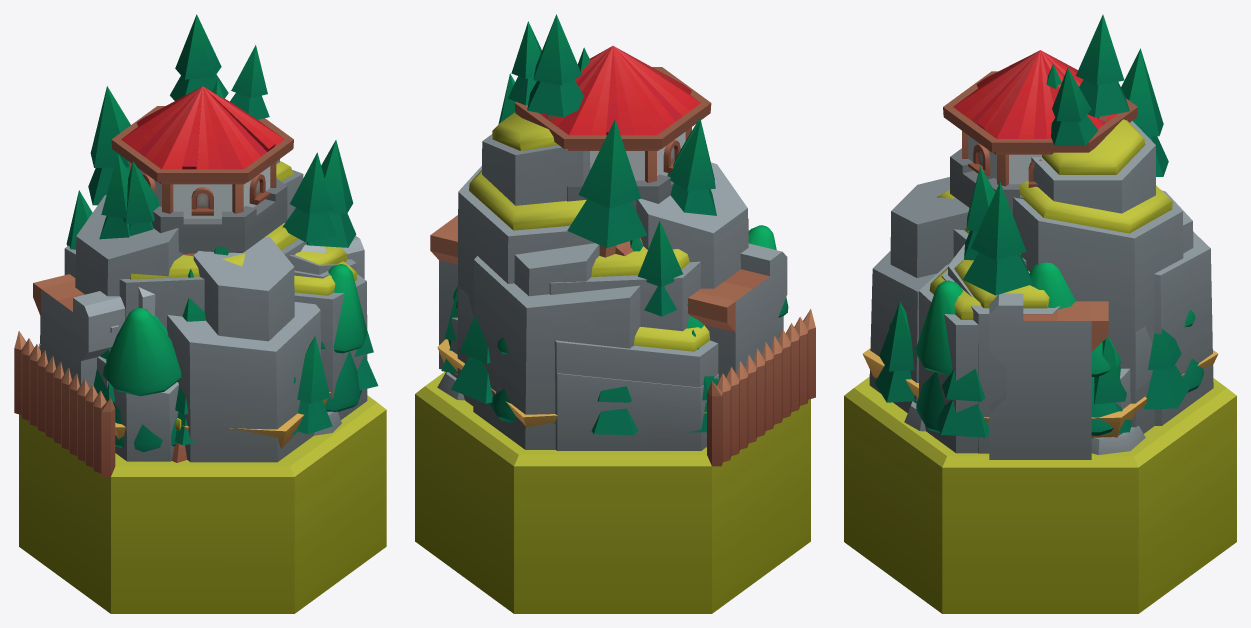
The model's file is village.glb.
3 views of the same model, side by side, from view 1: azimuth 30°, elevation 25°; view 2: azimuth 150°, elevation 25°; view 3: azimuth 270°, elevation 25° (orthographic). The views are drawn at different scales.
Parts seen in each view (by area): view 1: hex_grass, mountain_C, building_tower_A_top_red, mountain_A_grass_trees, mountain_B_grass_trees, trees_B_large, fence_wood_straight, wall_straight, building_tower_A_red, trees_A_large, building_grain, hills_A_trees; view 2: hex_grass, mountain_B_grass_trees, mountain_C, mountain_A_grass_trees, building_tower_A_top_red, wall_straight, fence_wood_straight, trees_A_large, building_tower_A_red, building_grain, trees_B_large, trees_B_medium; view 3: hex_grass, mountain_B_grass_trees, mountain_C, wall_straight, mountain_A_grass_trees, building_tower_A_top_red, trees_A_large, trees_B_large, trees_B_medium, building_tower_A_red, building_grain, hills_A_trees.
Boxes of the visible parts, left/top/right/bottom form: hex_grass: left=19, top=395, right=386, bottom=613; mountain_C: left=75, top=195, right=367, bottom=462; building_tower_A_top_red: left=111, top=86, right=293, bottom=218; mountain_A_grass_trees: left=39, top=79, right=367, bottom=399; mountain_B_grass_trees: left=40, top=14, right=356, bottom=388; trees_B_large: left=102, top=264, right=366, bottom=451; fence_wood_straight: left=14, top=331, right=115, bottom=476; wall_straight: left=33, top=236, right=364, bottom=387; building_tower_A_red: left=152, top=178, right=287, bottom=254; trees_A_large: left=40, top=328, right=378, bottom=445; building_grain: left=115, top=392, right=330, bottom=448; hills_A_trees: left=182, top=269, right=341, bottom=435; hex_grass: left=415, top=371, right=810, bottom=613; mountain_B_grass_trees: left=457, top=14, right=718, bottom=450; mountain_C: left=450, top=162, right=783, bottom=449; mountain_A_grass_trees: left=458, top=47, right=748, bottom=450; building_tower_A_top_red: left=514, top=46, right=711, bottom=182; wall_straight: left=430, top=215, right=787, bottom=379; fence_wood_straight: left=707, top=309, right=815, bottom=466; trees_A_large: left=441, top=287, right=718, bottom=435; building_tower_A_red: left=567, top=174, right=674, bottom=210; building_grain: left=437, top=339, right=706, bottom=427; trees_B_large: left=448, top=225, right=788, bottom=423; trees_B_medium: left=490, top=337, right=515, bottom=422; hex_grass: left=844, top=376, right=1236, bottom=613; mountain_B_grass_trees: left=941, top=14, right=1183, bottom=453; mountain_C: left=869, top=177, right=1213, bottom=453; wall_straight: left=989, top=293, right=1108, bottom=459; mountain_A_grass_trees: left=919, top=48, right=1168, bottom=452; building_tower_A_top_red: left=943, top=50, right=1137, bottom=187; trees_A_large: left=875, top=301, right=1189, bottom=437; trees_B_large: left=889, top=271, right=1200, bottom=435; trees_B_medium: left=1029, top=262, right=1203, bottom=392; building_tower_A_red: left=950, top=148, right=1023, bottom=214; building_grain: left=862, top=348, right=1218, bottom=438; hills_A_trees: left=904, top=401, right=1145, bottom=454.
Size of the model in its own units: 2.05 by 3.5 by 2.31.
1 material, 1 textured.
